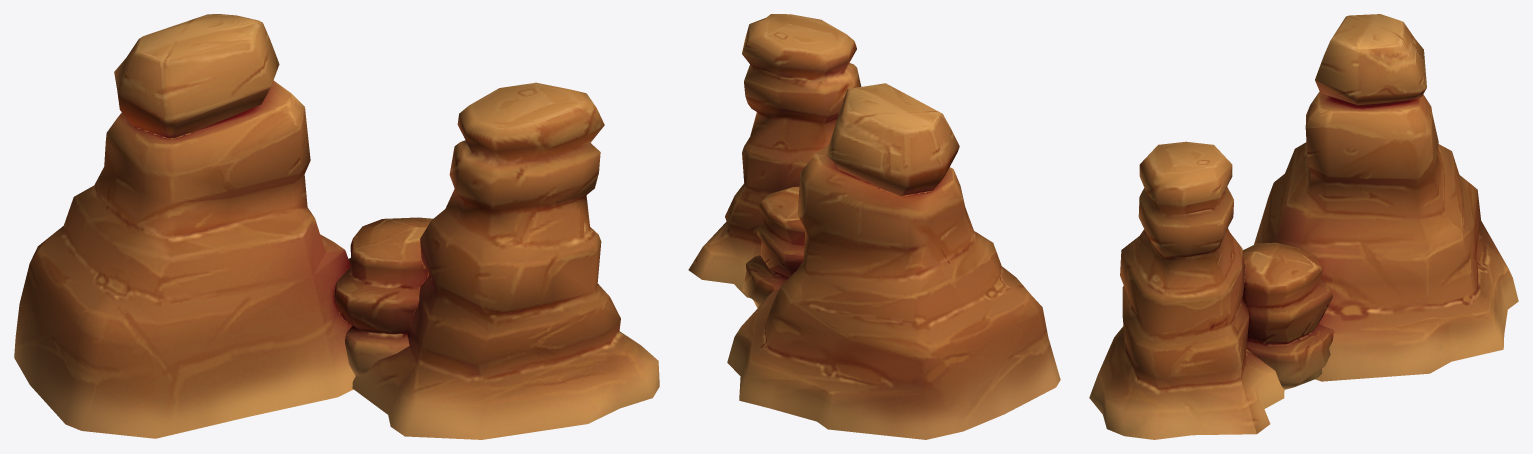
File: huangyexingqiu_shitou04.FBX
3 views of the same model, side by side, from view 1: azimuth 30°, elevation 25°; view 2: azimuth 150°, elevation 25°; view 3: azimuth 270°, elevation 25° (orthographic). The views are drawn at different scales.
Visible parts, largest first — view 1: huangyexingqiu_shitou04; view 2: huangyexingqiu_shitou04; view 3: huangyexingqiu_shitou04.
Boxes of the visible parts, box(x1,y1,x2,y2) form: huangyexingqiu_shitou04: box(14, 14, 659, 439); huangyexingqiu_shitou04: box(688, 14, 1060, 439); huangyexingqiu_shitou04: box(1089, 14, 1518, 439).
Size of the model in its own units: 5873 by 3776 by 5226.
